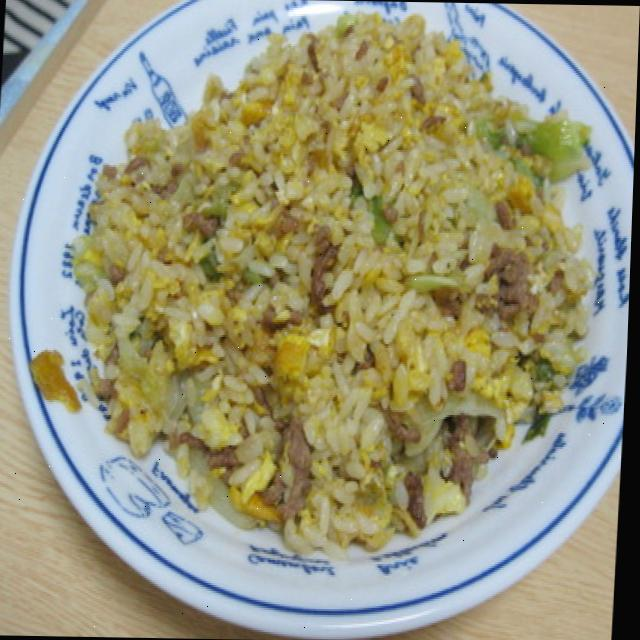米饭主食: (9, 0, 640, 623)
